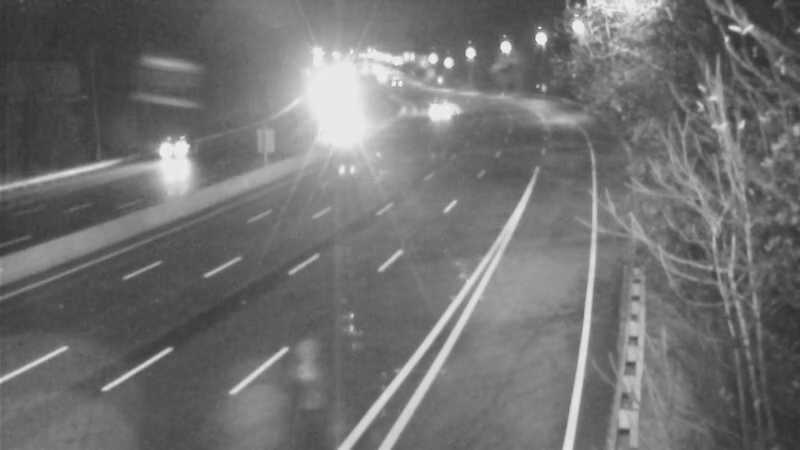vehicle: (126, 112, 206, 192), (367, 58, 417, 108), (410, 84, 460, 134), (320, 105, 370, 155)
